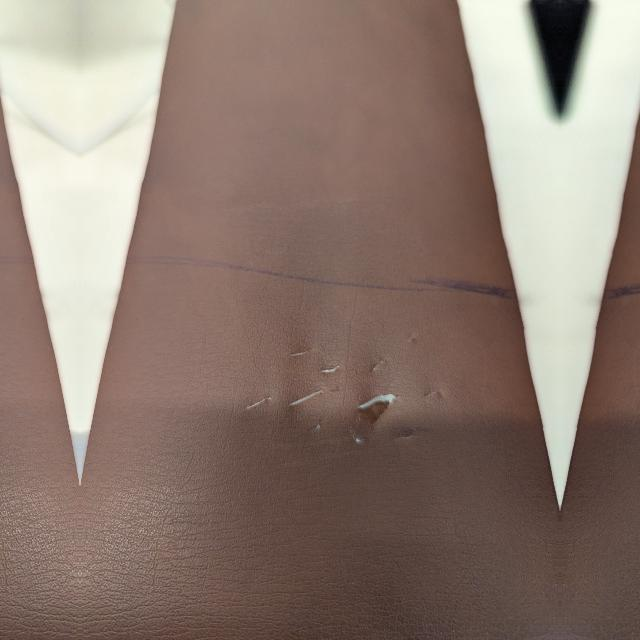belt_crack: (243, 290, 497, 460), (623, 290, 640, 460)
